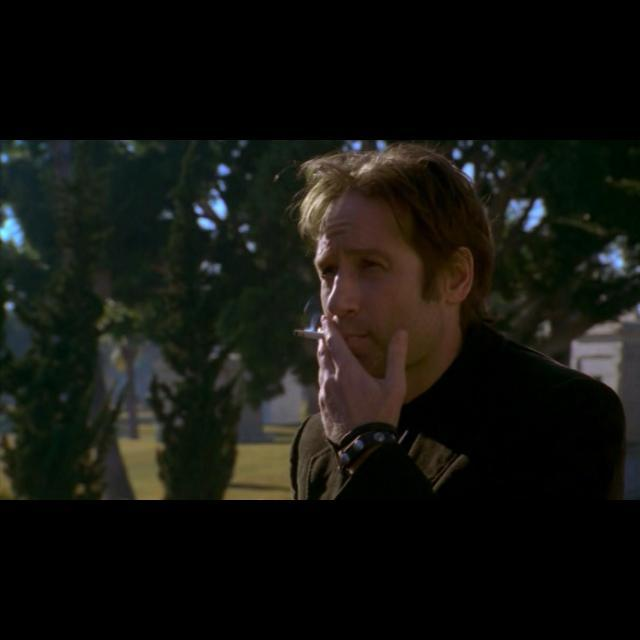rokok: (290, 325, 334, 345)
